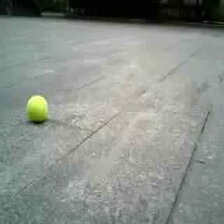tennis: (27, 96, 48, 121)
